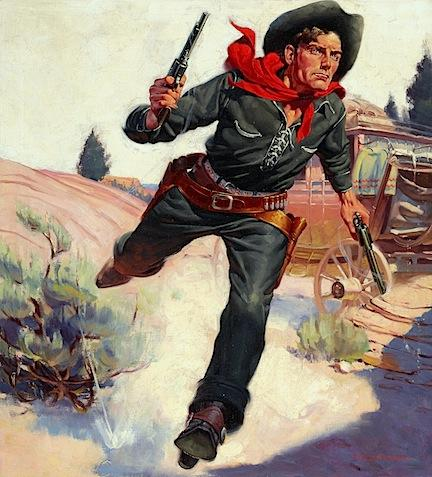person: (97, 13, 384, 473)
